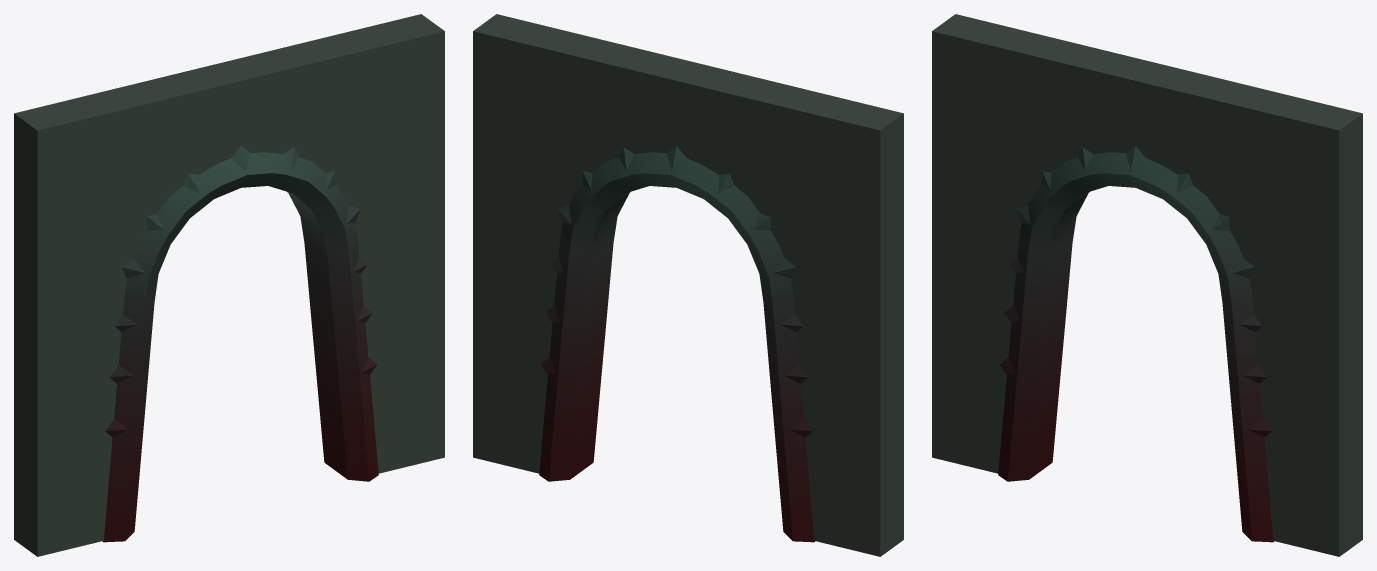
File: SM_WallFlat_ArchLarge.fbx
3 renders of one model, left to right at view 1: azimuth 30°, elevation 25°; view 2: azimuth 150°, elevation 25°; view 3: azimuth 330°, elevation 25°, orthographic.
Parts seen in each view (by area): view 1: SM_WallFlat_ArchLarge; view 2: SM_WallFlat_ArchLarge; view 3: SM_WallFlat_ArchLarge.
Part boxes in pixels (box(x1,y1,x2,y2)): SM_WallFlat_ArchLarge: box(14, 14, 444, 556); SM_WallFlat_ArchLarge: box(473, 14, 903, 556); SM_WallFlat_ArchLarge: box(932, 14, 1362, 556).
Bounding box in the file's own units: 1000 × 1003 × 150.
Materials: 1 (1 with a texture image).
